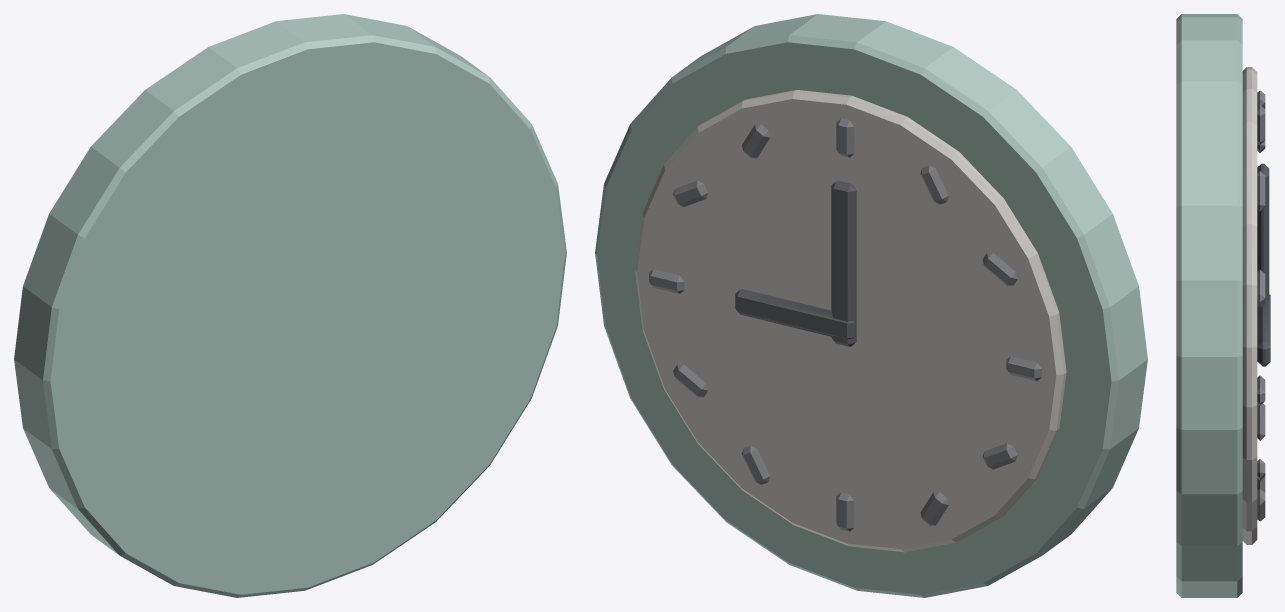
Rendered from furn_wall_clock__mint.glb.
3 views of the same model, side by side, from view 1: azimuth 30°, elevation 25°; view 2: azimuth 150°, elevation 25°; view 3: azimuth 270°, elevation 25° (orthographic). The views are drawn at different scales.
Size of the model in its own units: 0.44 by 0.44 by 0.071.
